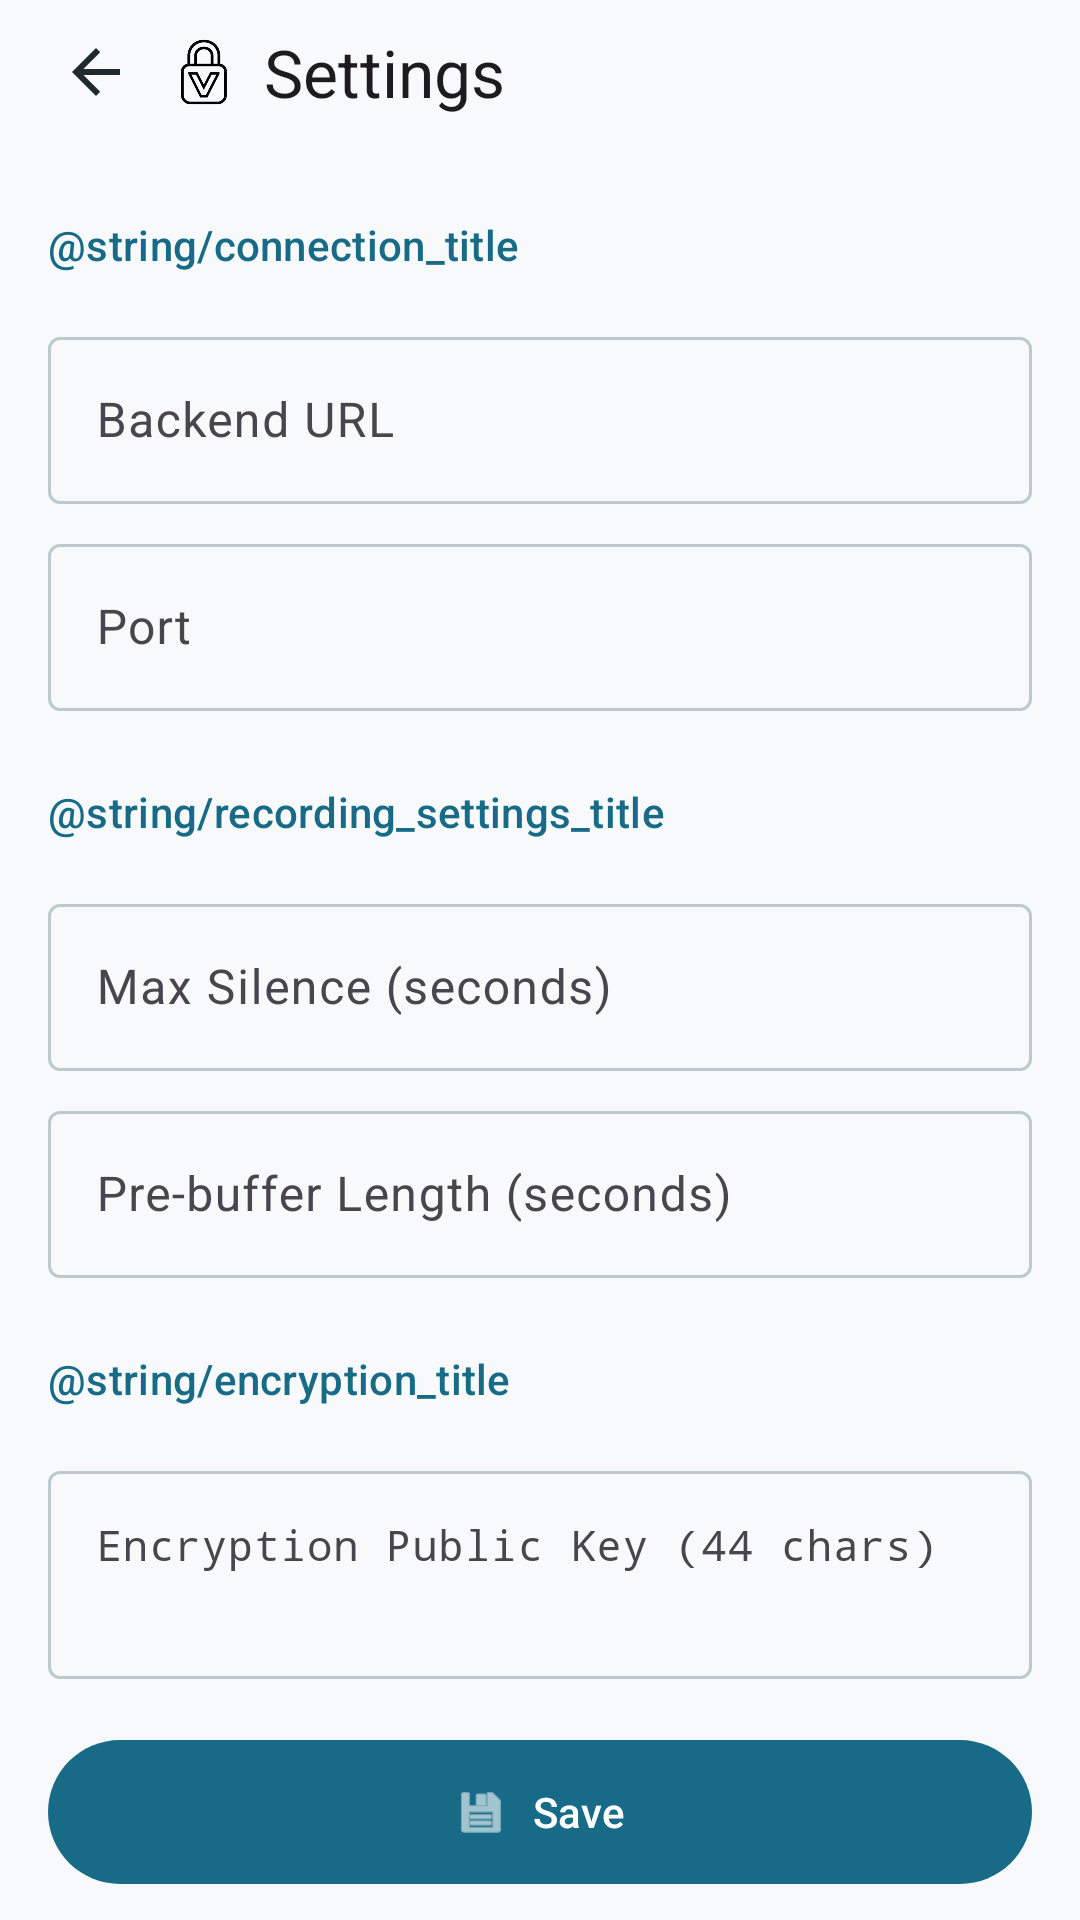

Point at icon controls on the screen. Image size 1080px x 1920px, points as [x,y].
Back: [96,72]
